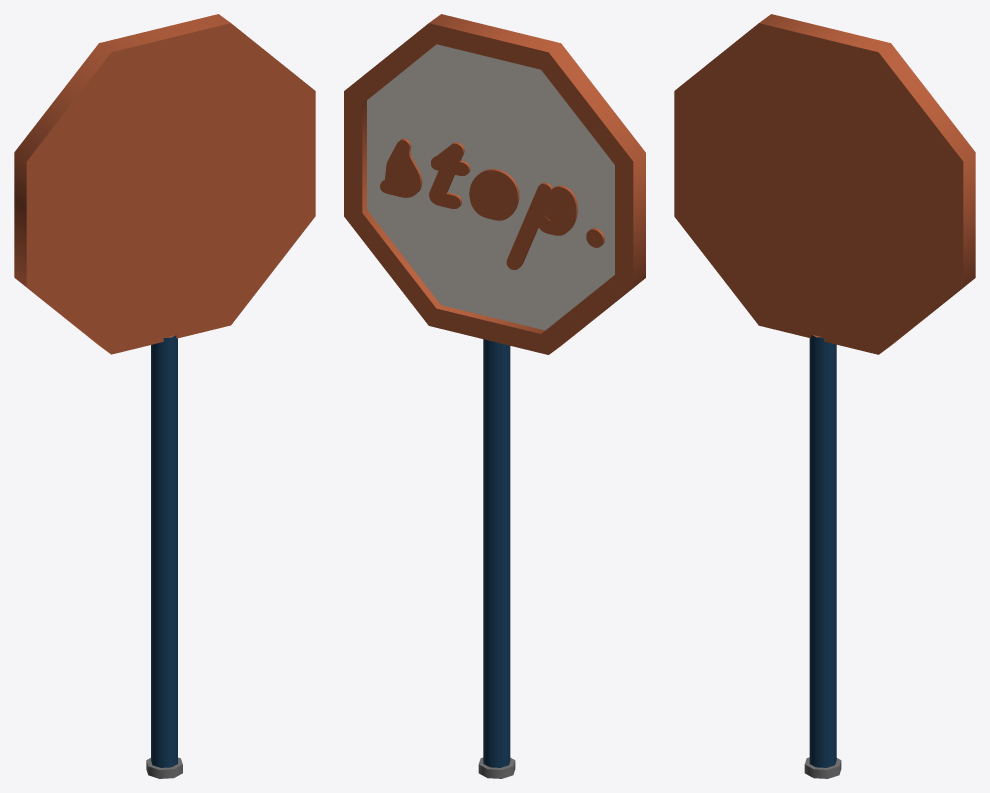
Rendered from StopSign.fbx.
3 views of the same model, side by side, from view 1: azimuth 30°, elevation 25°; view 2: azimuth 150°, elevation 25°; view 3: azimuth 330°, elevation 25° (orthographic).
Visible parts, largest first — view 1: stop_sign; view 2: stop_sign; view 3: stop_sign.
Boxes of the visible parts, x1=… form: stop_sign: x1=14, y1=14, x2=315, y2=778; stop_sign: x1=344, y1=14, x2=645, y2=778; stop_sign: x1=674, y1=14, x2=975, y2=778.
Size of the model in its own units: 0.8147 by 17.53 by 7.19.
